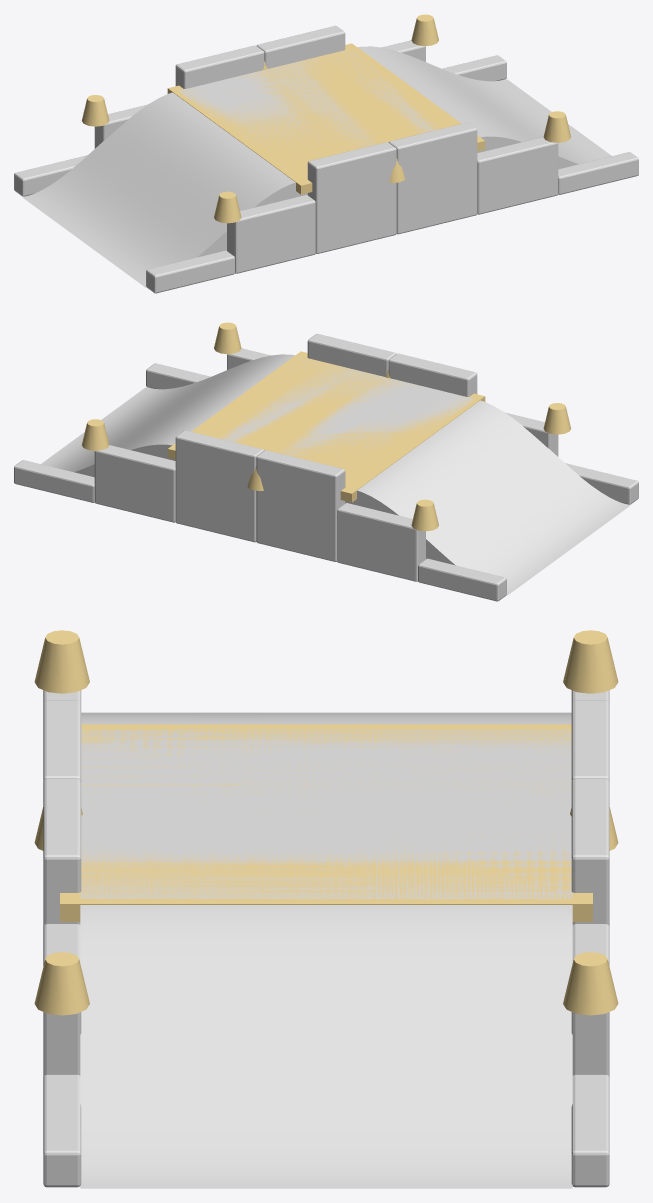
Rendered from ench_ramp_terrace.fbx.
3 renders of one model, top to bottom at view 1: azimuth 30°, elevation 25°; view 2: azimuth 150°, elevation 25°; view 3: azimuth 270°, elevation 25°, orthographic. The views are drawn at different scales.
Parts seen in each view (by area): view 1: stonepale_1, stonemoss_1, gold_1; view 2: stonepale_1, stonemoss_1, gold_1; view 3: stonepale_1, gold_1, stonemoss_1.
Boxes of the visible parts, x1,y1,x2,y2 form: stonepale_1: (23,46,611,287); stonemoss_1: (14,25,638,293); gold_1: (81,14,570,223); stonepale_1: (41,354,629,595); stonemoss_1: (14,333,638,601); gold_1: (82,322,571,531); stonepale_1: (80,712,572,1188); gold_1: (34,630,618,1015); stonemoss_1: (43,690,609,1187).
Size of the model in its own units: 2.5 by 0.43 by 1.3.
